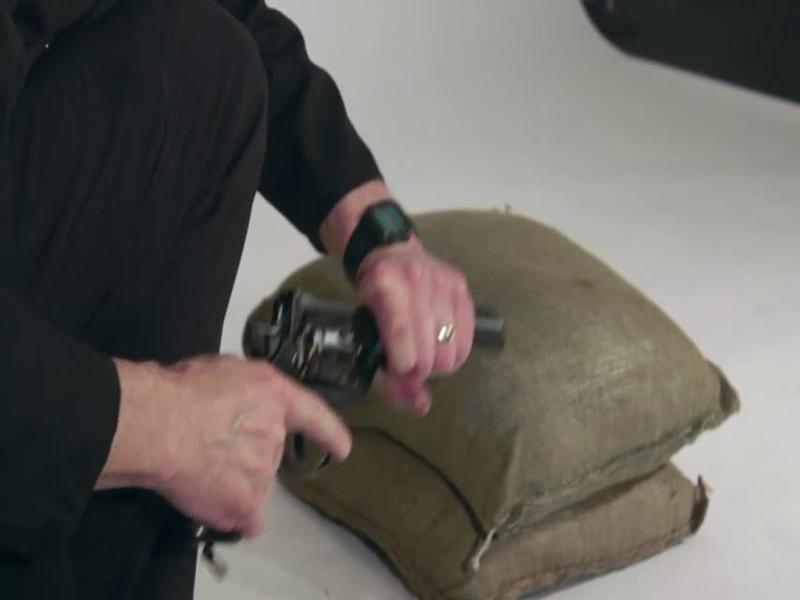Revolver: (169, 277, 543, 552)
